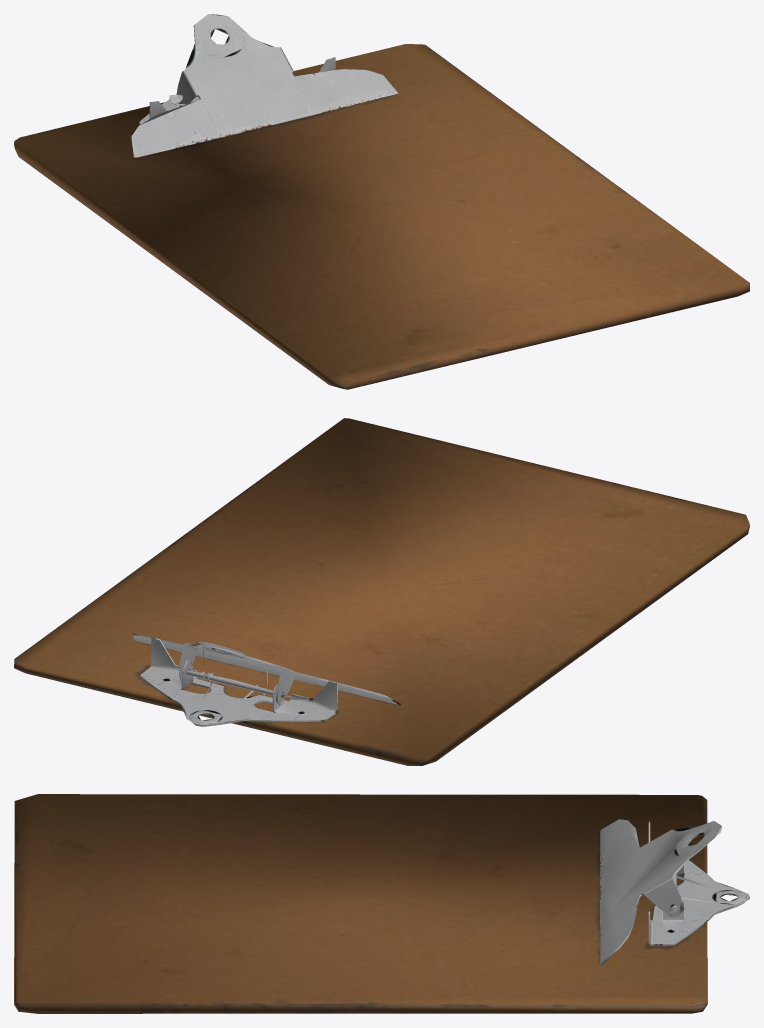
File: klemmbrett.glb
3 renders of one model, top to bottom at view 1: azimuth 30°, elevation 25°; view 2: azimuth 150°, elevation 25°; view 3: azimuth 270°, elevation 25°, orthographic. The views are drawn at different scales.
Visible parts, largest first — view 1: clipboard; view 2: clipboard; view 3: clipboard.
Part boxes in pixels (x1,y1,x2,y2): clipboard: (14,14,749,389); clipboard: (14,418,749,765); clipboard: (14,794,749,1013).
Size of the model in its own units: 0.228 by 0.0417 by 0.3362.
1 material, 1 textured.
